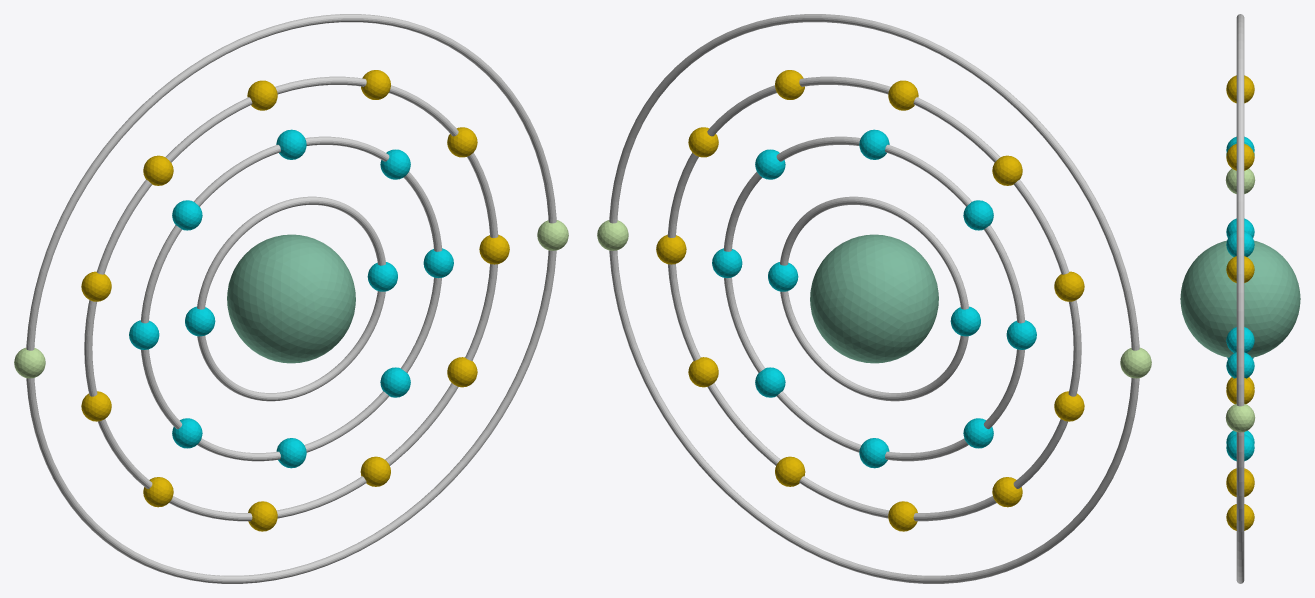
The picture shows the model from 3 angles, left to right: view 1: azimuth 30°, elevation 25°; view 2: azimuth 150°, elevation 25°; view 3: azimuth 270°, elevation 25°; orthographic projection. The views are drawn at different scales.
Parts seen in each view (by area): view 1: Camada_4, Nucleo_V, Camada_3, Camada_2, Camada_1, e4_2, e4_1, e2_4, e2_8, e3_11, e3_5, e3_6 (+16 smaller); view 2: Camada_4, Nucleo_V, Camada_3, Camada_2, Camada_1, e4_2, e4_1, e2_4, e2_8, e3_11, e3_5, e3_6 (+16 smaller); view 3: Nucleo_V, Camada_4, e4_1, e4_2, e3_4, e2_8, e3_3, e3_10, e3_11, e1_1, e3_2, e2_1 (+3 smaller).
Part boxes in pixels (box(x1,y1,x2,y2)): Camada_4: box(26, 14, 556, 583); Nucleo_V: box(227, 234, 355, 363); Camada_3: box(84, 76, 498, 521); Camada_2: box(140, 136, 442, 461); Camada_1: box(197, 196, 385, 401); e4_2: box(14, 347, 45, 378); e4_1: box(537, 220, 568, 250); e2_4: box(172, 200, 202, 230); e2_8: box(380, 367, 410, 397); e3_11: box(447, 357, 477, 387); e3_5: box(143, 155, 173, 185); e3_6: box(81, 271, 111, 301); Camada_4: box(609, 14, 1139, 583); Nucleo_V: box(810, 234, 938, 363); Camada_3: box(667, 76, 1081, 521); Camada_2: box(723, 136, 1025, 461); Camada_1: box(780, 196, 968, 401); e4_2: box(1120, 347, 1151, 378); e4_1: box(597, 220, 628, 250); e2_4: box(963, 200, 993, 230); e2_8: box(755, 367, 785, 397); e3_11: box(688, 357, 718, 387); e3_5: box(992, 155, 1022, 185); e3_6: box(1054, 271, 1084, 301); Nucleo_V: box(1180, 240, 1300, 357); Camada_4: box(1236, 14, 1244, 583); e4_1: box(1225, 404, 1255, 432); e4_2: box(1225, 168, 1255, 193); e3_4: box(1226, 76, 1254, 103); e2_8: box(1226, 434, 1254, 461); e3_3: box(1226, 143, 1254, 170); e3_10: box(1226, 504, 1254, 530); e3_11: box(1226, 470, 1254, 496); e1_1: box(1226, 327, 1254, 352); e3_2: box(1226, 256, 1254, 282); e2_1: box(1226, 352, 1254, 378).
Size of the model in its own units: 2.17 by 2.09 by 0.44.
